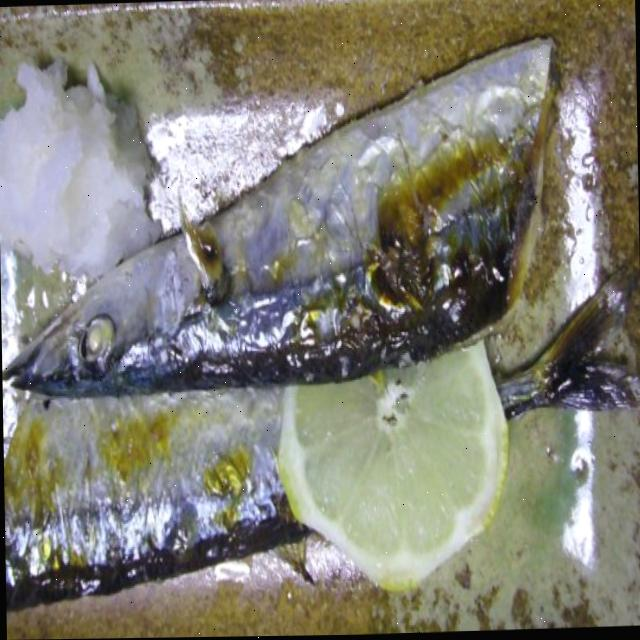熟制海鲜: (0, 25, 640, 640)
